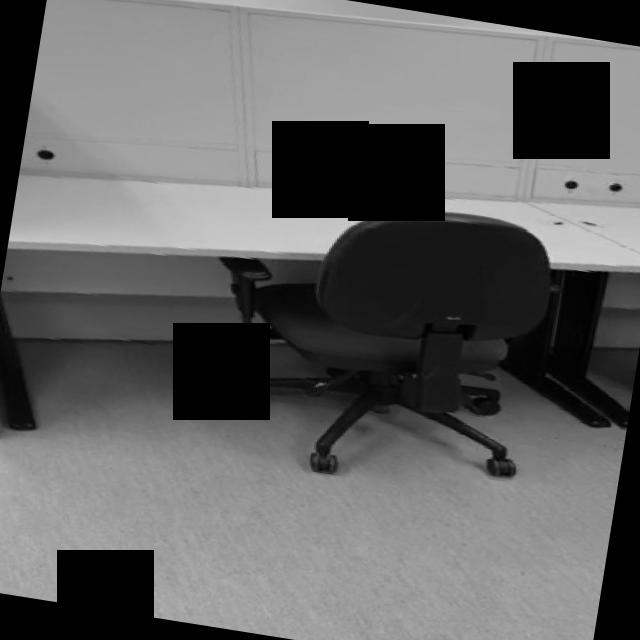cadeira-azul: (191, 176, 556, 502)
